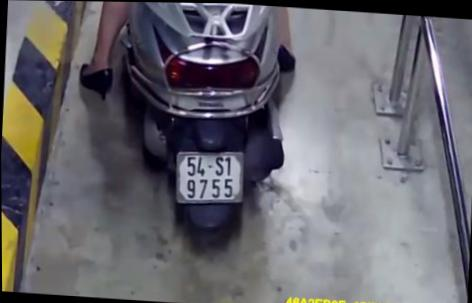LP: (178, 144, 250, 214)
